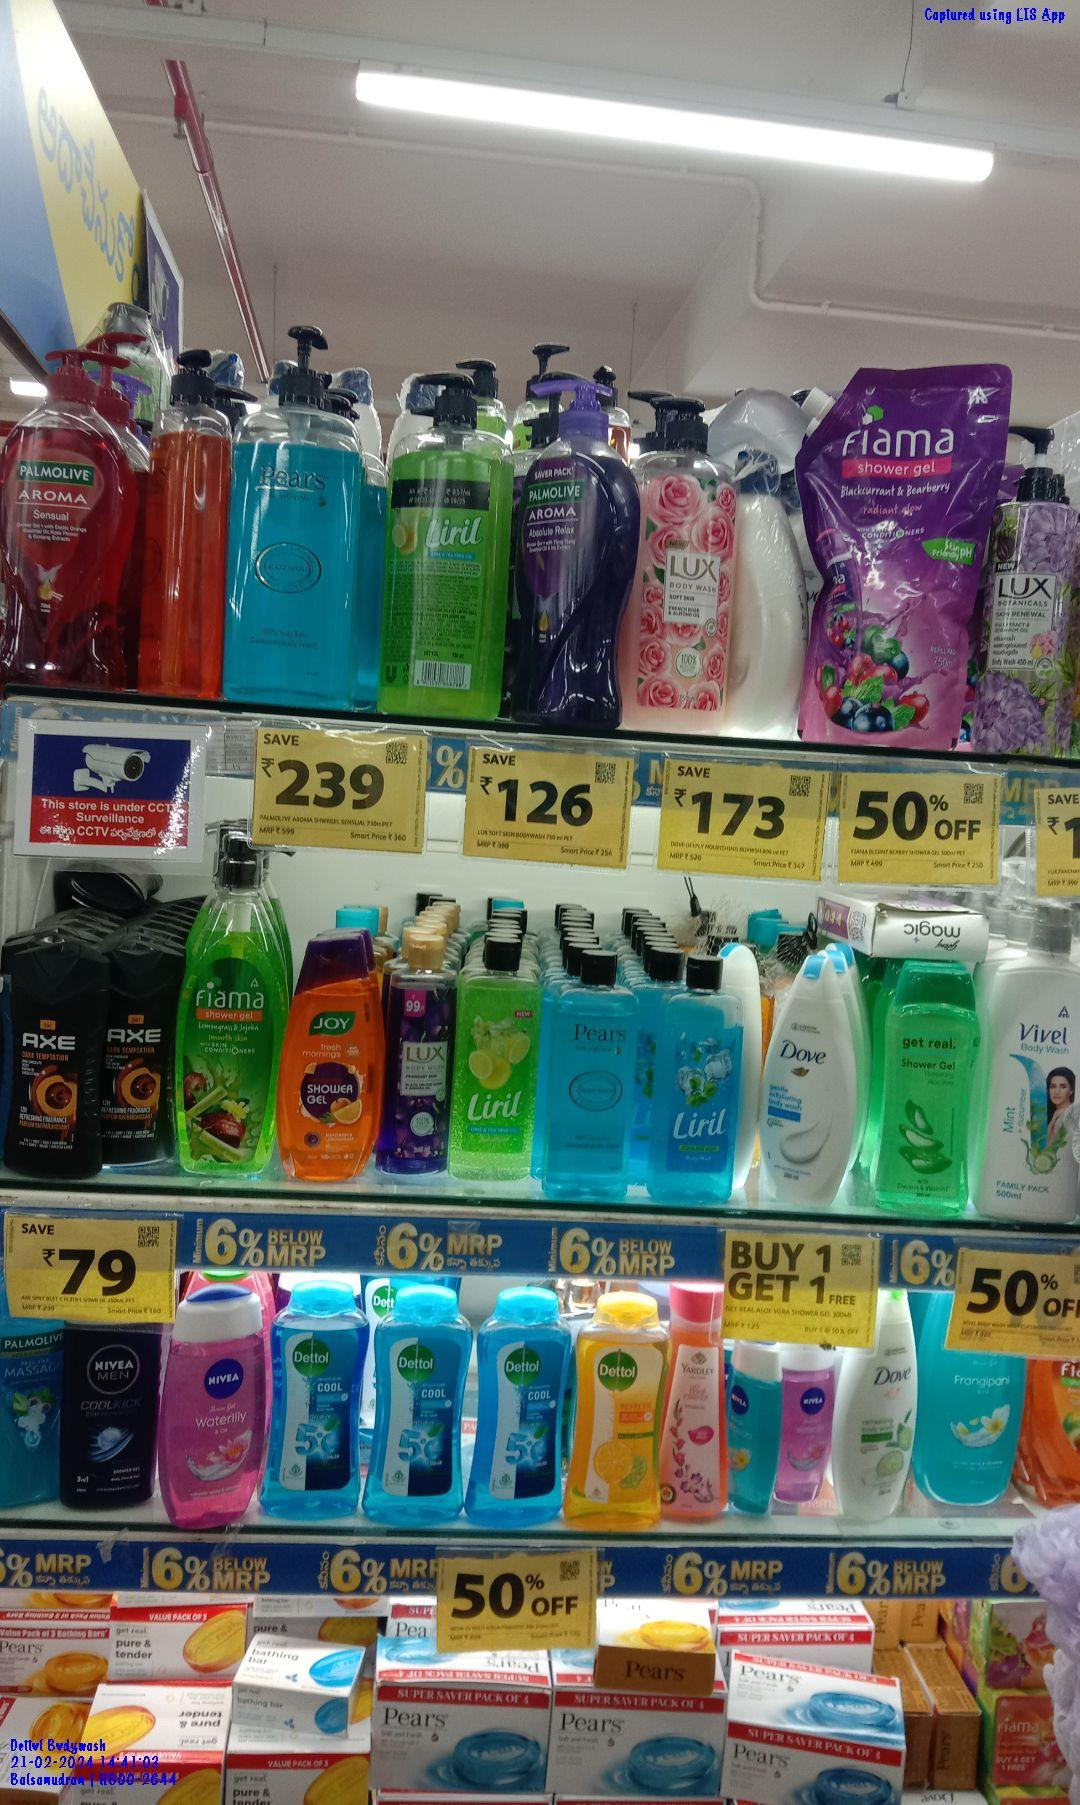Joy_Shower_Gel_Mandarin_and_Lemongrass_250ML: (276, 932, 377, 1181)
Liril_Lime_and_Tea_Tree_Oil_Body_Wash_250ML: (540, 947, 639, 1198), (451, 931, 543, 1179)
Lux_Black_Orchid_Scent_and_Juniper_Oil_Body_Wash_245ML: (378, 932, 454, 1179)
